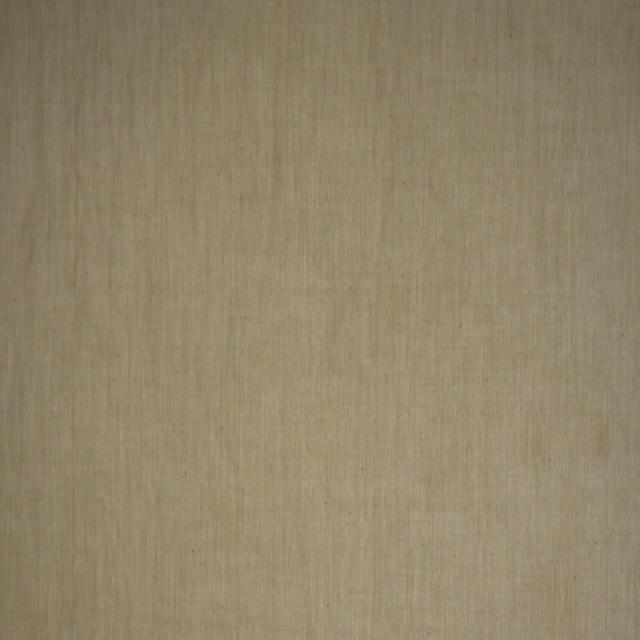dirty: (594, 432, 609, 461)
